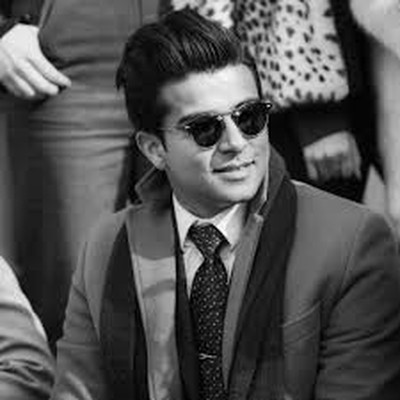eywear: (139, 92, 287, 152)
